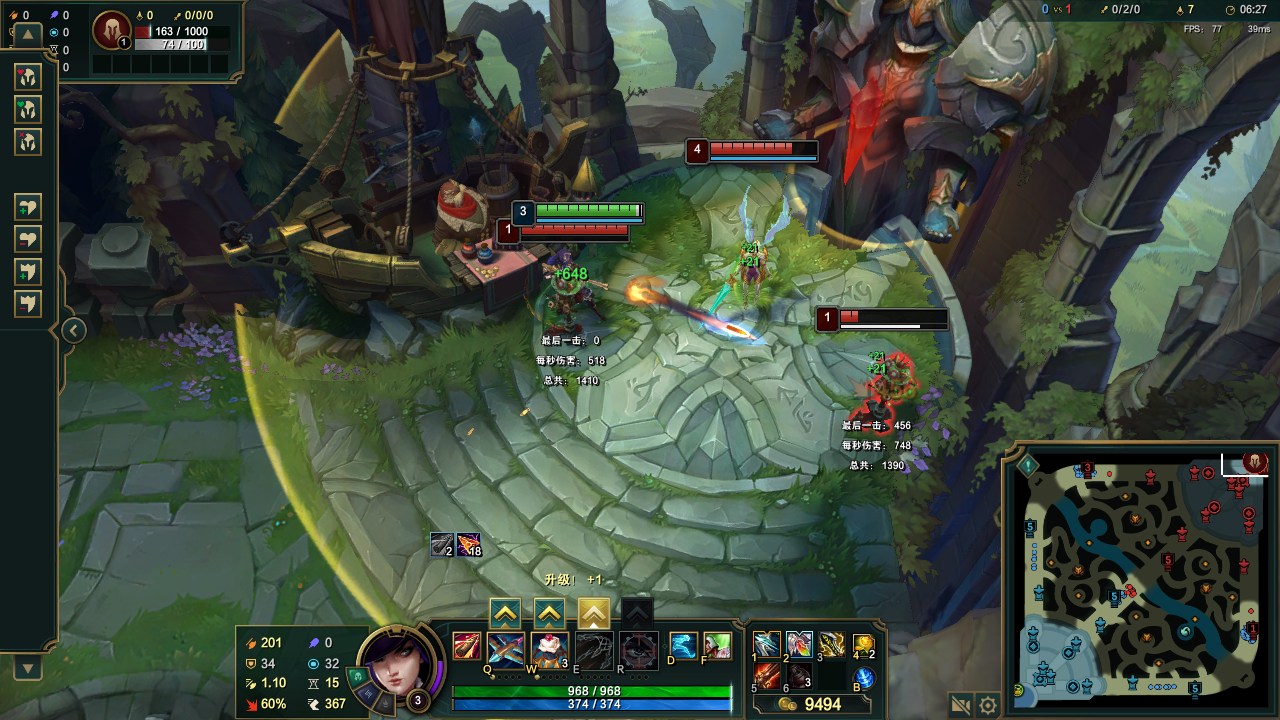DFYX: (711, 140, 831, 155), (842, 310, 954, 324), (521, 225, 639, 234)
